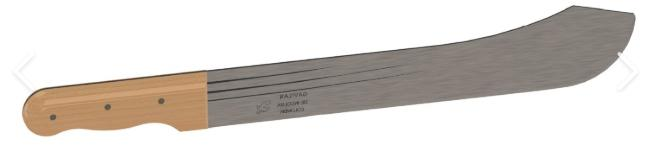MACHETTE: (14, 0, 639, 146)
